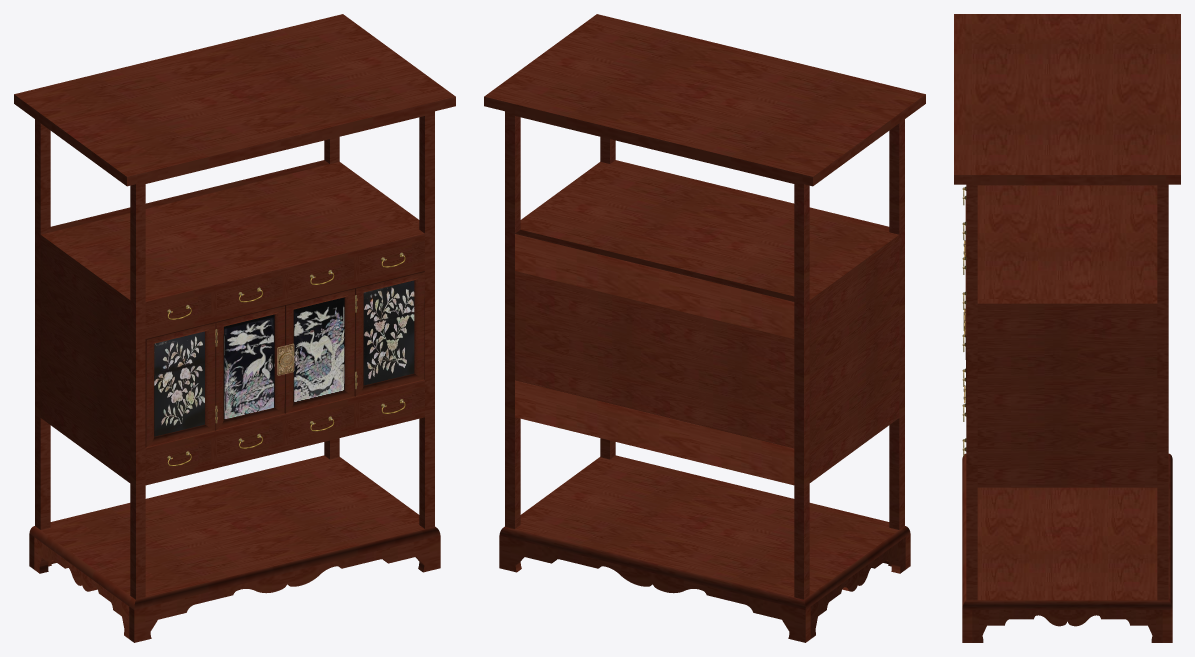
File: 나전칠기 장식장 2.FBX
The picture shows the model from 3 angles, left to right: view 1: azimuth 30°, elevation 25°; view 2: azimuth 150°, elevation 25°; view 3: azimuth 270°, elevation 25°; orthographic projection.
Parts seen in each view (by area): view 1: 나전칠기 장식장 2; view 2: 나전칠기 장식장 2; view 3: 나전칠기 장식장 2.
Part boxes in pixels (box(x1,y1,x2,y2)): 나전칠기 장식장 2: box(14, 14, 455, 642); 나전칠기 장식장 2: box(484, 14, 925, 642); 나전칠기 장식장 2: box(954, 14, 1180, 642).
Size of the model in its own units: 39.28 by 53.84 by 23.36.
